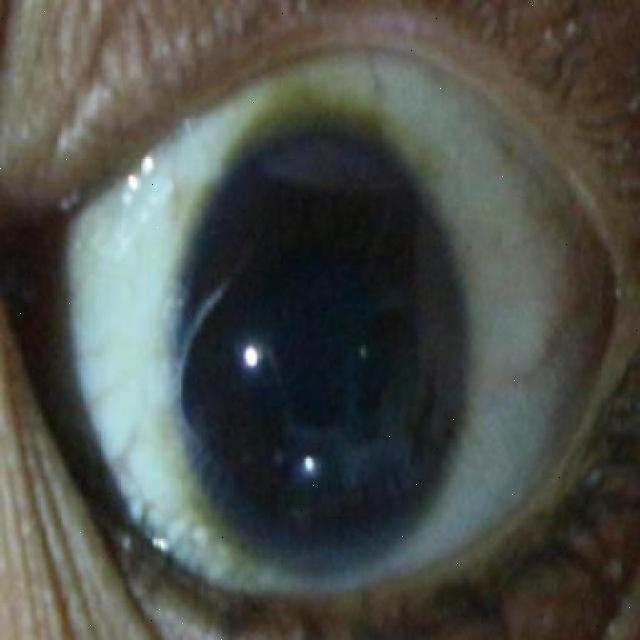Normal: (166, 114, 472, 576)
